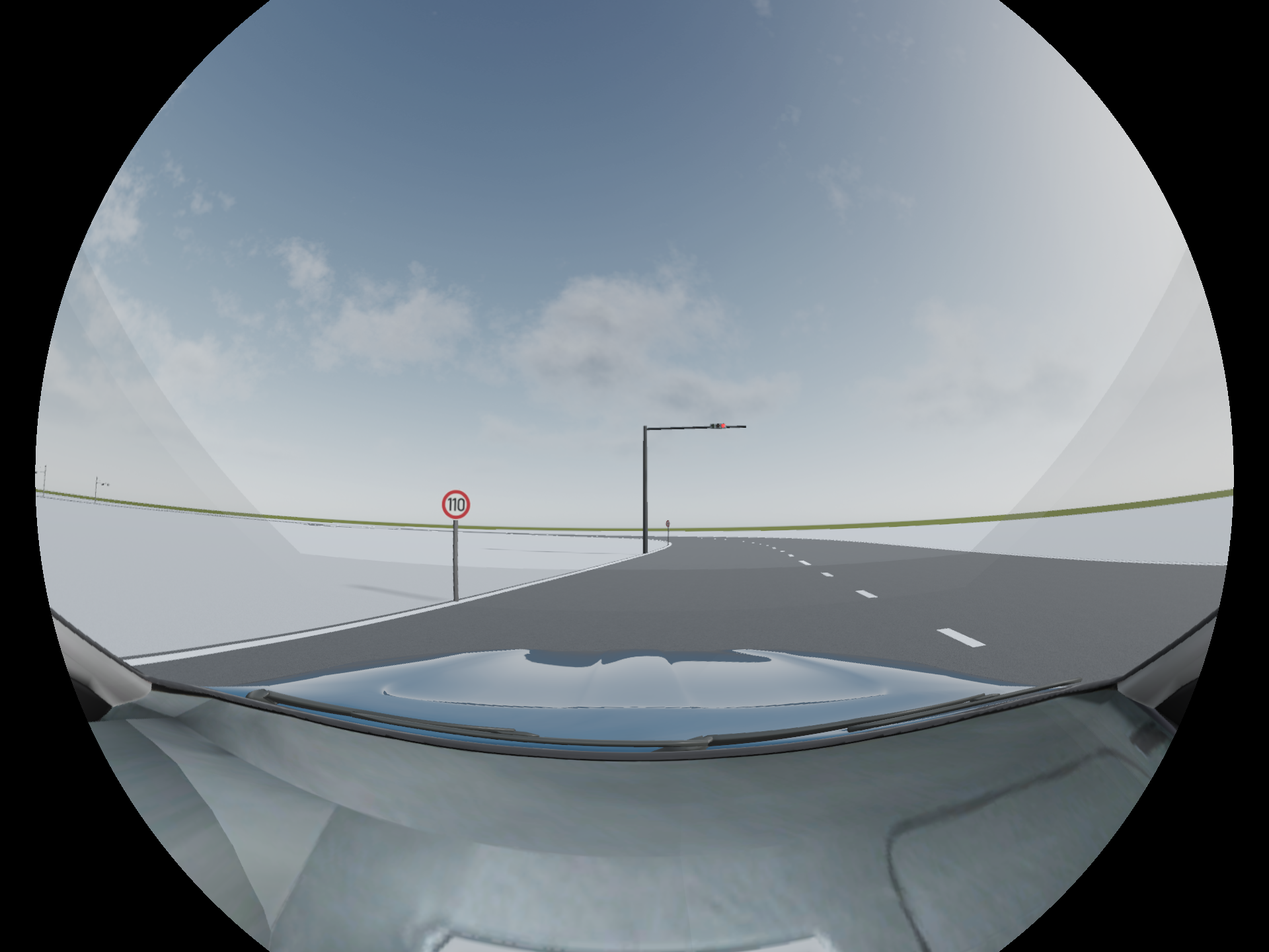Red Light: (708, 420, 726, 431)
Speed Limit 110: (441, 488, 470, 519)
